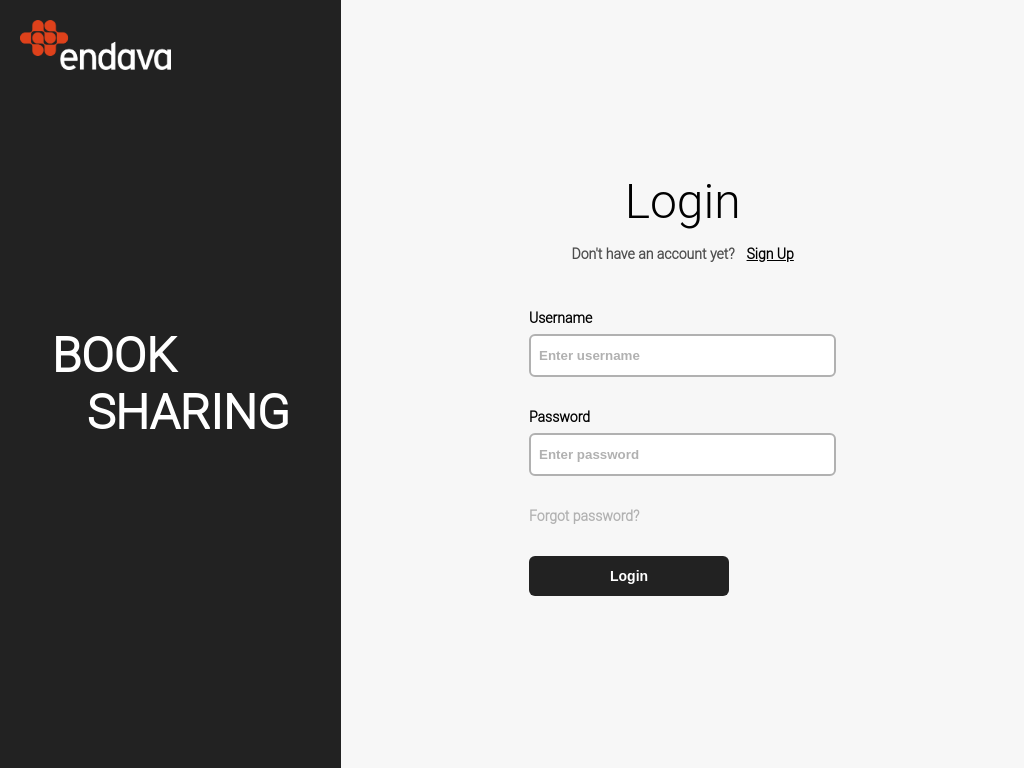
Test: Login › Should invalidate when no inputs provided
The image size is (1024, 768).
Step 1. Click the button with test id "submit-button" → (629, 576), box left=529, top=556, right=729, bottom=596
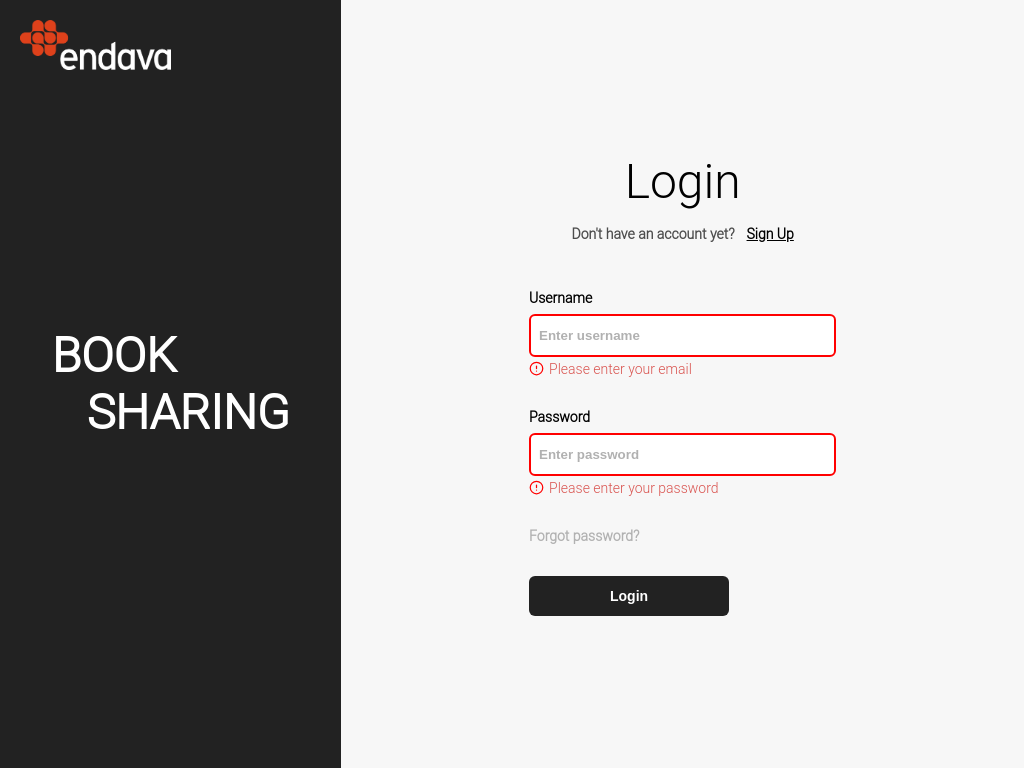
Check: the element showing "Please enter your email" is shown, box left=529, top=360, right=692, bottom=376
Check: the text "Please enter your password" is shown, box left=529, top=480, right=719, bottom=496
